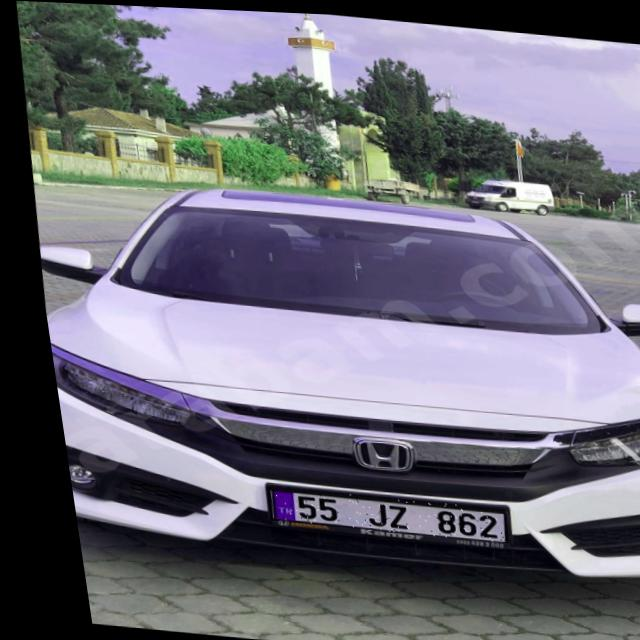license_plate: (251, 485, 494, 540)
